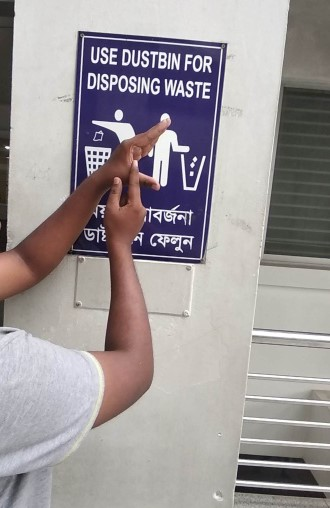dh: (100, 103, 169, 255)
